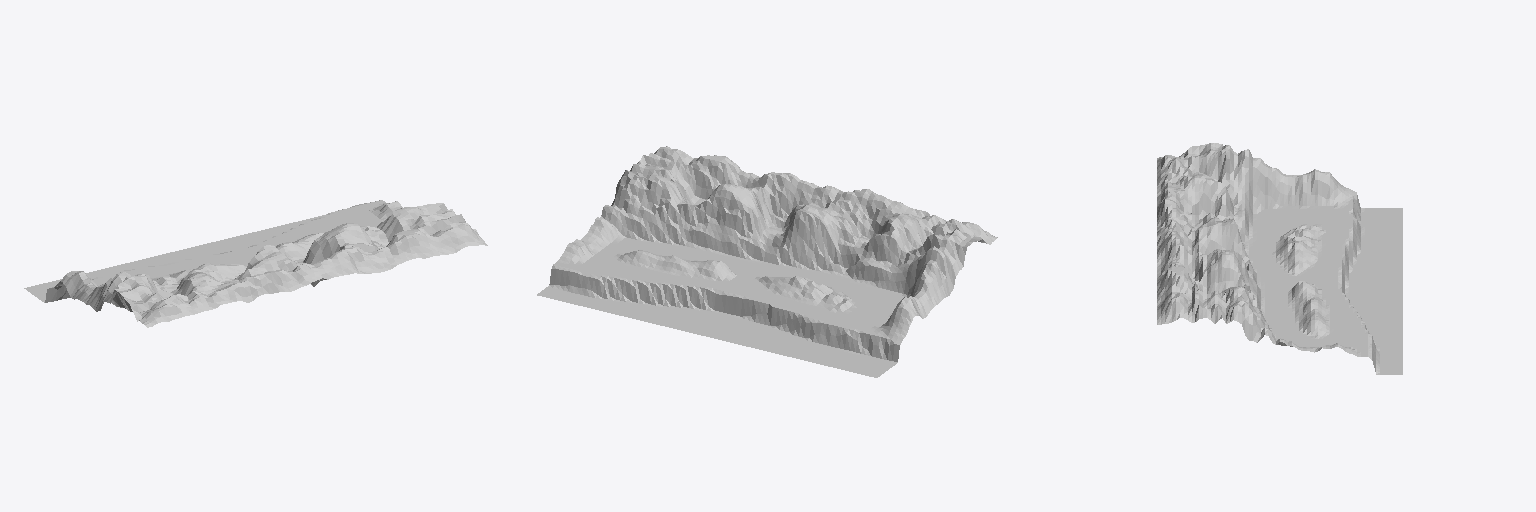
File: Terrain 1_16.obj
3 renders of one model, left to right at view 1: azimuth 30°, elevation 25°; view 2: azimuth 150°, elevation 25°; view 3: azimuth 270°, elevation 25°, orthographic.
Size of the model in its own units: 2000 by 400 by 1250.